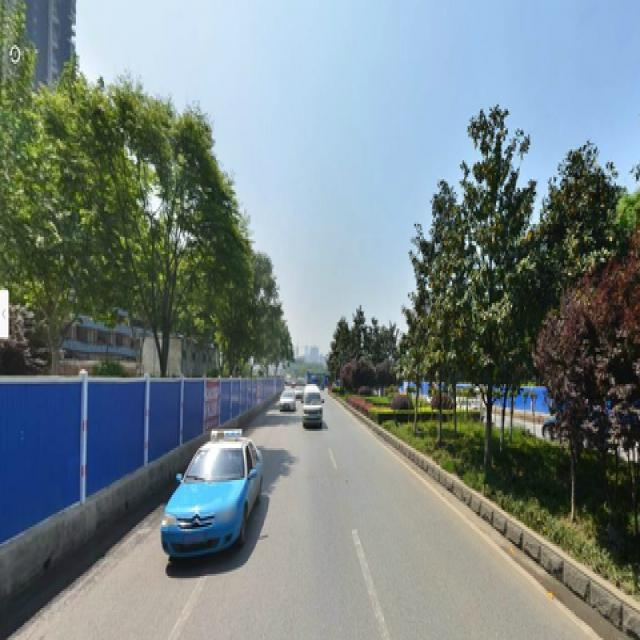magn: (462, 113, 538, 476)
